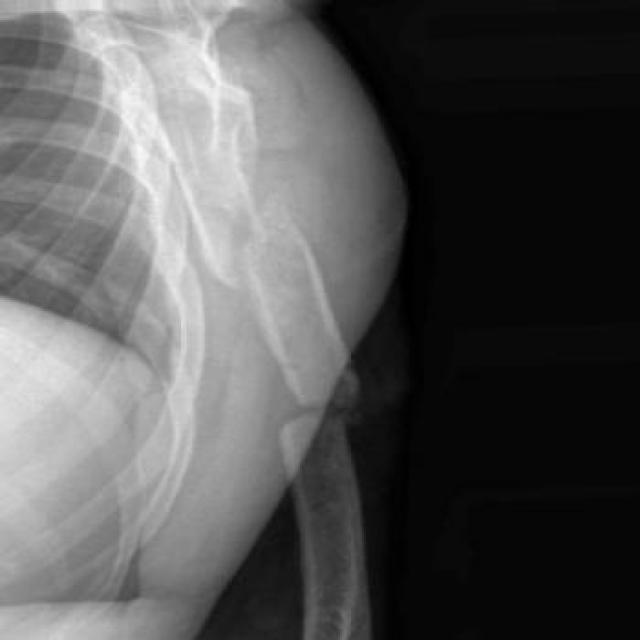Fracture: (213, 179, 315, 273), (262, 385, 374, 443)
